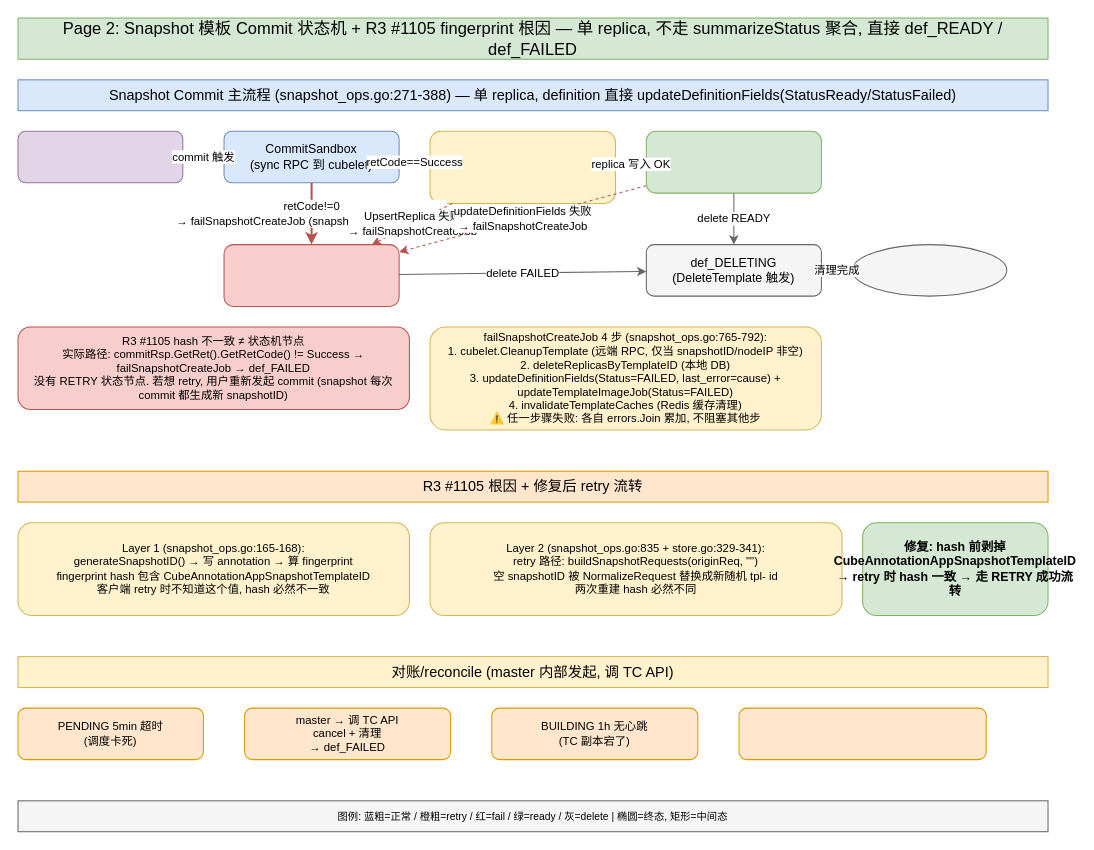
The diagram is 1094 pixels wide and 850 high, and some of its shapes have lost their labels. Each missing label, with the centre of its shape:
def_DELETED (终态): [929,270]
def_FAILED (last_error = cause.Error()): [311,275]
def_PENDING (snapshot 记录入库): [100,156]
def_READY updateDefinitionFields(StatusReady): [733,161]
master → 调其他 TC 接管 + 重新拉进度 → S_COMMIT: [862,733]
UpsertReplica (registerTemplateReplicaForSnapshot) setTemplateLocalityCache: [522,166]
